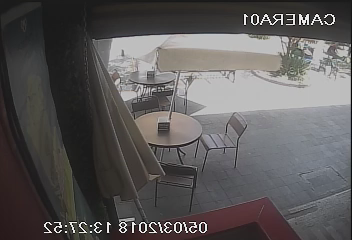libre: (130, 105, 247, 207), (109, 58, 191, 114)
